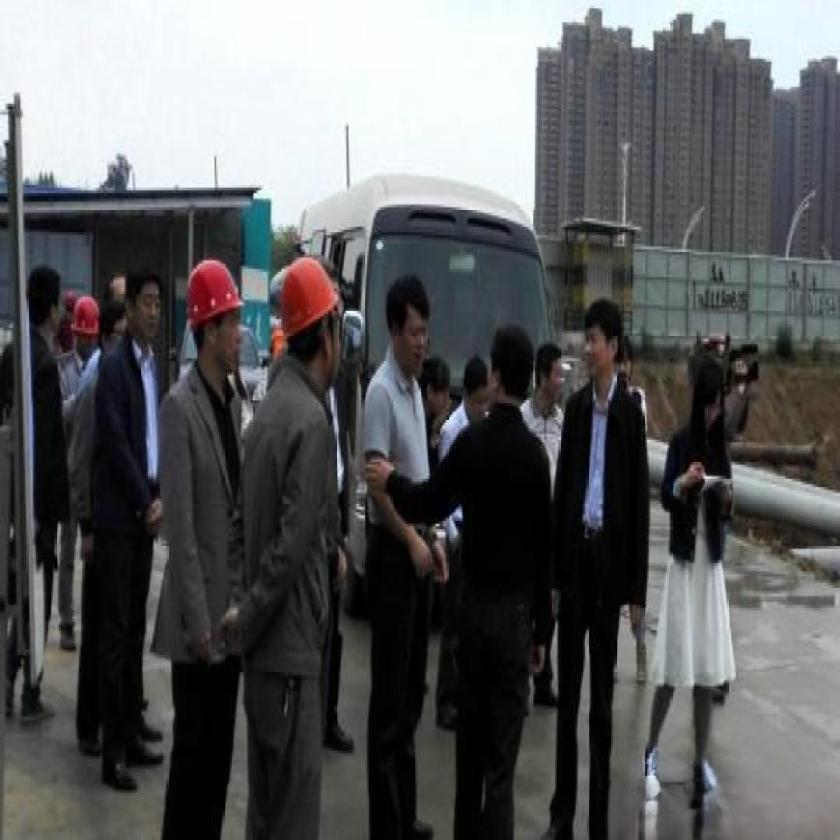Con_casco: (274, 254, 348, 403), (181, 250, 259, 384)
Sin_casco: (381, 271, 440, 376), (580, 287, 627, 418)
